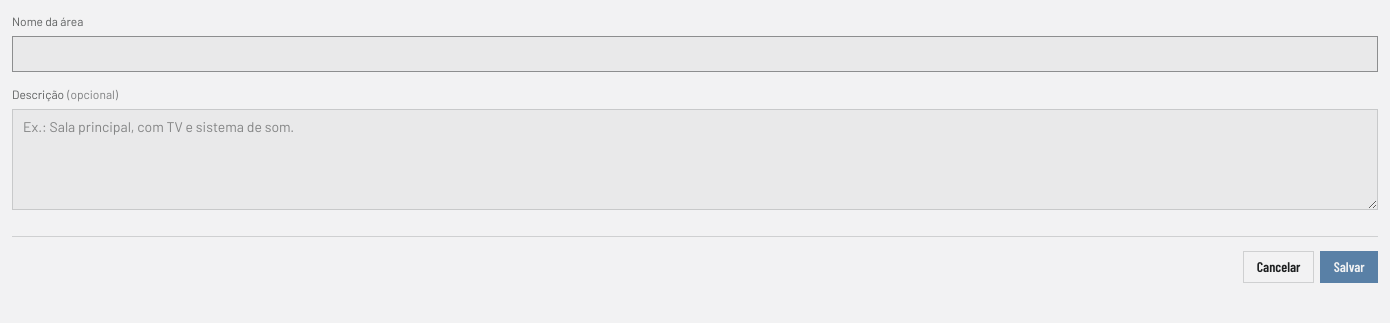
Test case: AreaForm — validação › exige nome ao tentar submeter vazio
The width and height of the screenshot is (1390, 323).
Step 1. Click the button "Salvar" → [1349, 267], box [1320,251,1378,283]
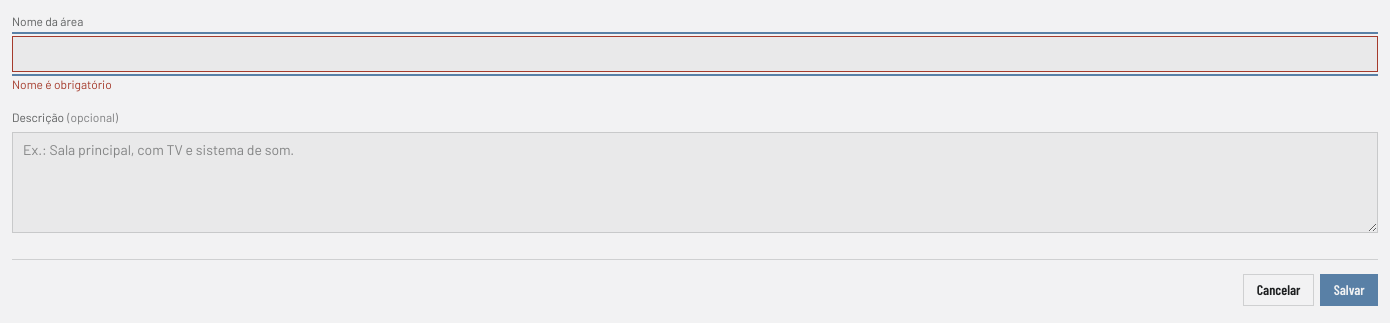
Expected: the text "Nome é obrigatório" is shown, [12,77,112,91]
